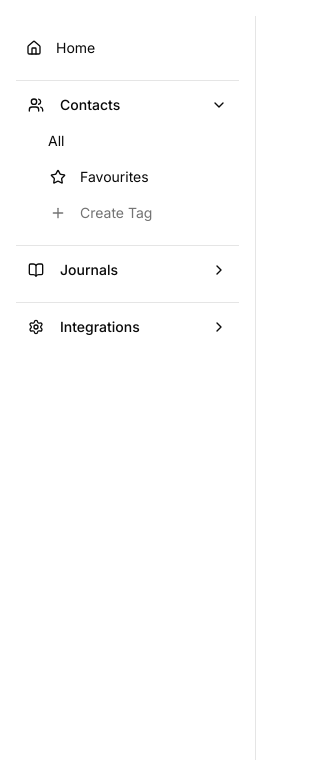
Test: Sidebar - Journal Tags › expands and collapses a parent journal tag
Click the button "Journals" at (128, 270), box [16,254,239,286]
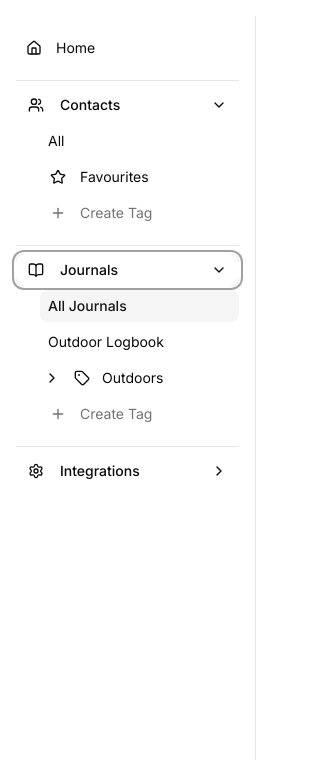
Click the button named "Expand Outdoors" at (52, 378), box [40,366,64,390]
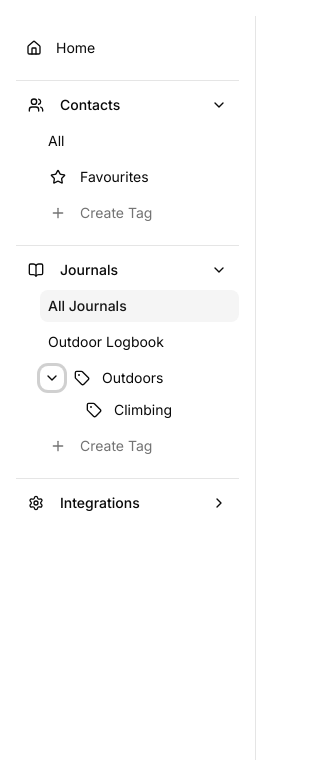
Expected: the text "Climbing" is shown, [114,400,172,420]
Click the button named "Collapse Outdoors" at (52, 378), box [40,366,64,390]
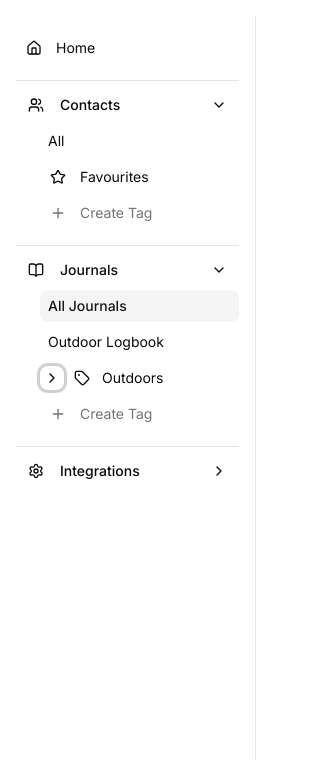
Expected: the link "Climbing" is gone
